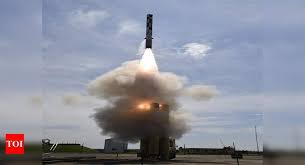ten_lua: (140, 12, 157, 56)
